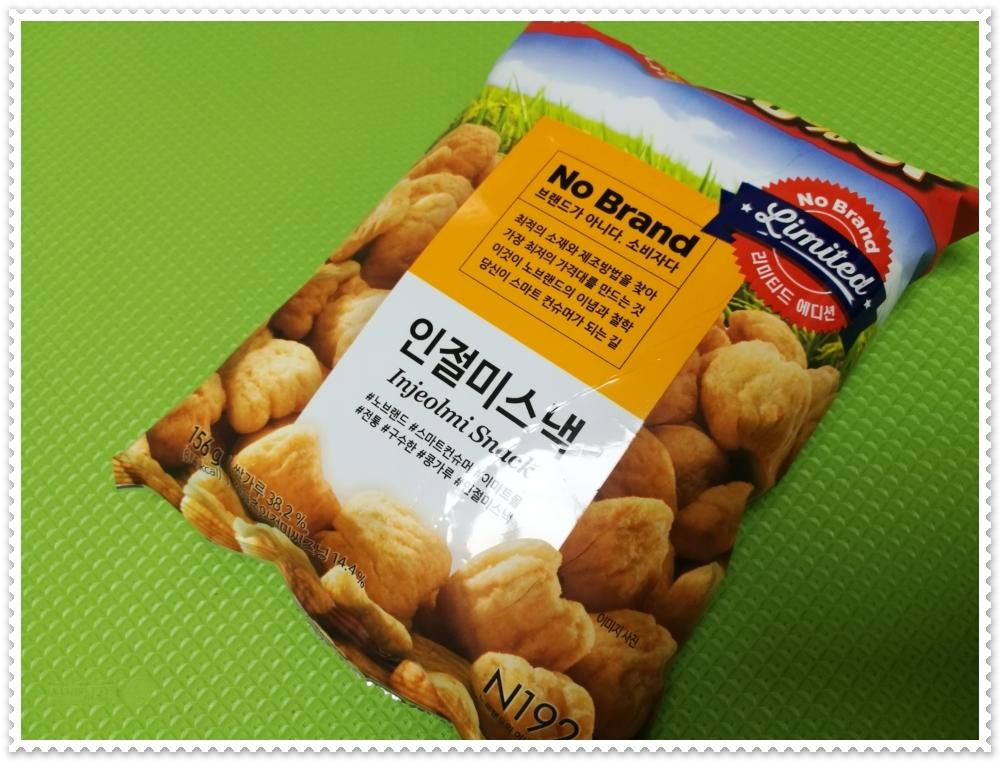snack: (109, 20, 981, 739)
